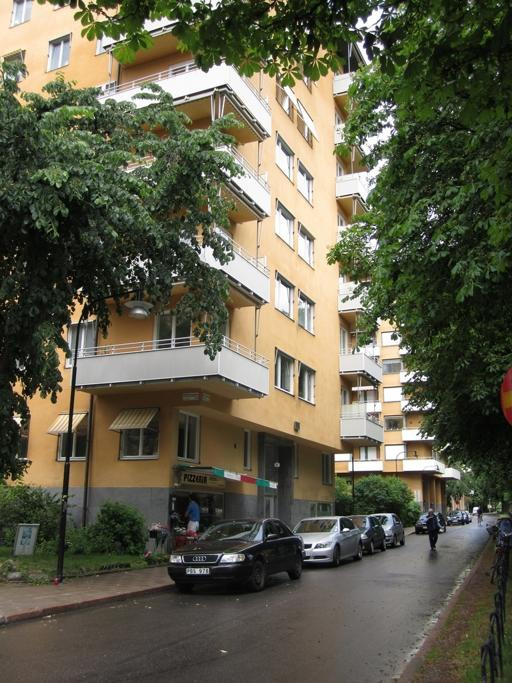non-vehicle: (484, 543, 504, 584), (477, 514, 482, 526)
